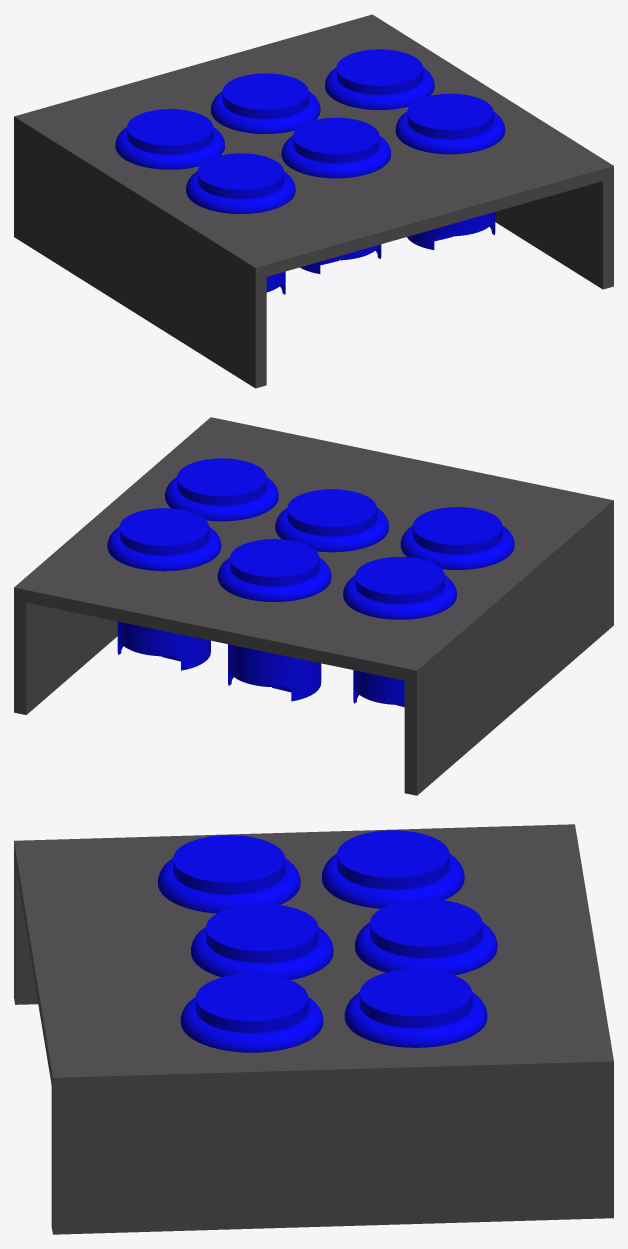
The model's file is OAColouredButtons_v3.glb.
3 views of the same model, one above another, from view 1: azimuth 30°, elevation 25°; view 2: azimuth 150°, elevation 25°; view 3: azimuth 270°, elevation 25° (orthographic). The views are drawn at different scales.
Parts seen in each view (by area): view 1: Solid1 (×7); view 2: Solid1 (×7); view 3: Solid1 (×7).
Part boxes in pixels (x1,y1,x2,y2): Solid1 (×7): (14,14,613,388); Solid1 (×7): (14,417,613,795); Solid1 (×7): (14,824,613,1234).
Bounding box in the file's own units: 0.1387 × 0.0464 × 0.1387.
